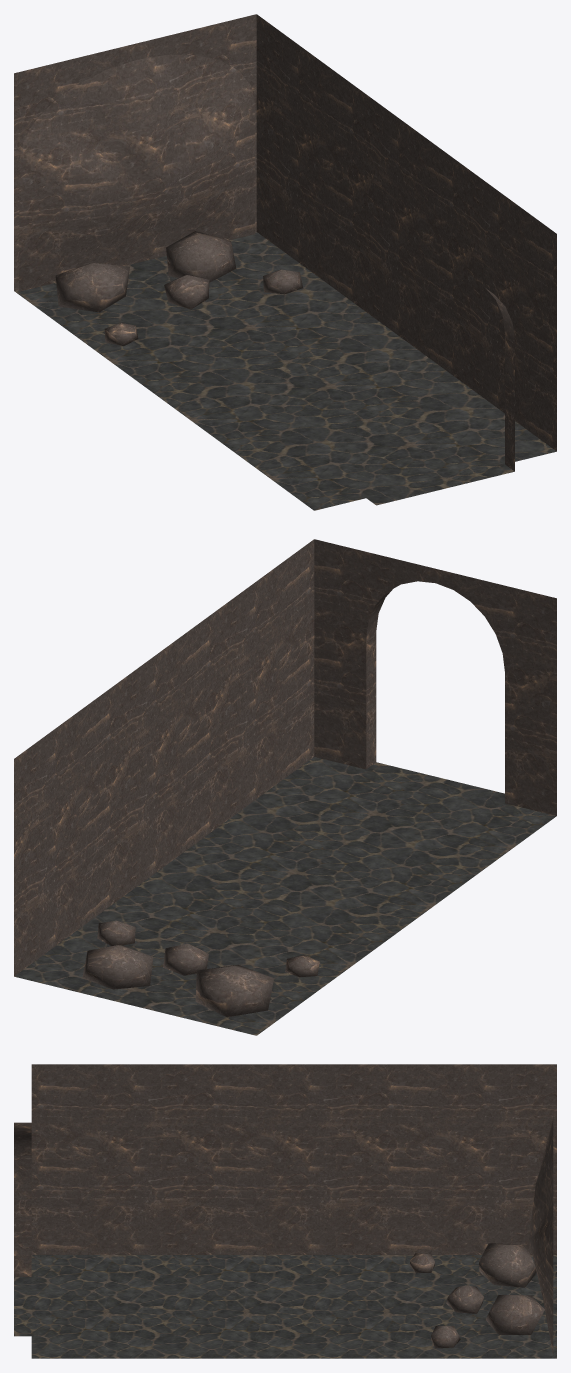
File: rockfall.35a0fc00.gltf
The picture shows the model from 3 angles, top to bottom: view 1: azimuth 30°, elevation 25°; view 2: azimuth 150°, elevation 25°; view 3: azimuth 270°, elevation 25°; orthographic projection. The views are drawn at different scales.
Visible parts, largest first — view 1: rockfall-mesh; view 2: rockfall-mesh; view 3: rockfall-mesh.
Part boxes in pixels (box(x1,y1,x2,y2)): rockfall-mesh: box(14, 14, 556, 510); rockfall-mesh: box(14, 539, 556, 1035); rockfall-mesh: box(14, 1064, 556, 1358).
Size of the model in its own units: 3.5 by 3.18 by 7.75.
Materials: 2 (2 with a texture image).
